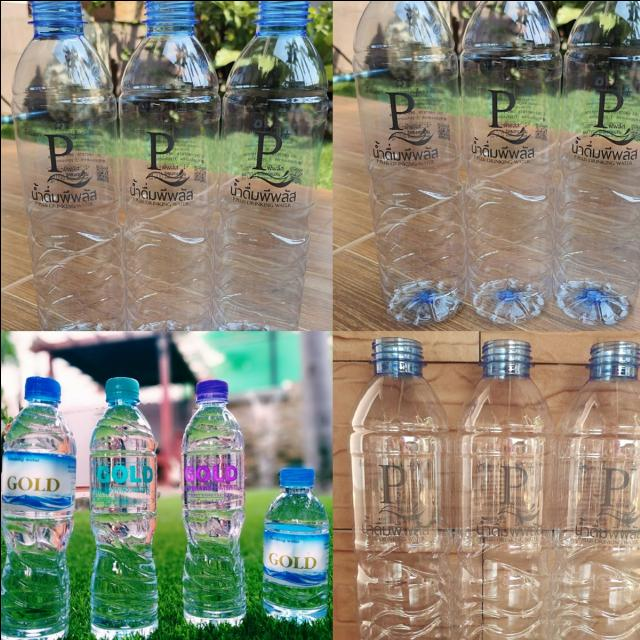plastik: (10, 0, 124, 330), (212, 0, 326, 330), (352, 0, 465, 324), (118, 0, 220, 330), (460, 0, 561, 322), (349, 337, 452, 640), (453, 338, 553, 640), (553, 0, 640, 323), (549, 341, 640, 640), (0, 375, 74, 640), (89, 377, 157, 639), (181, 379, 245, 625), (261, 467, 328, 622)
